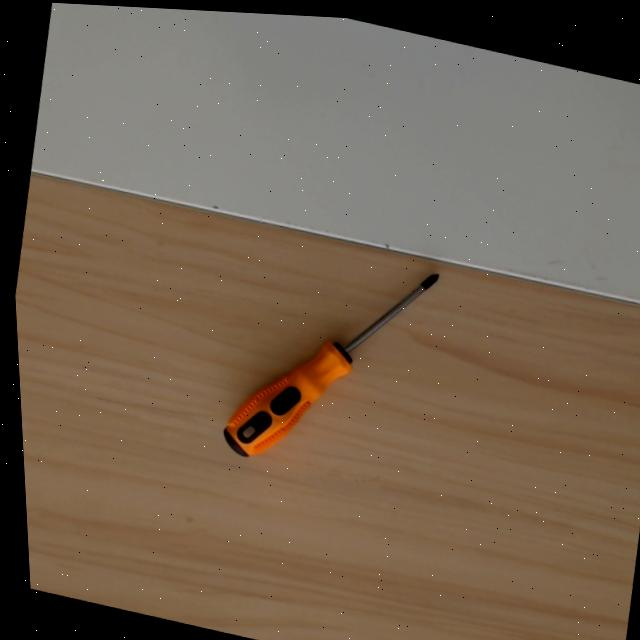Obeng-Besar: (214, 247, 446, 468)
